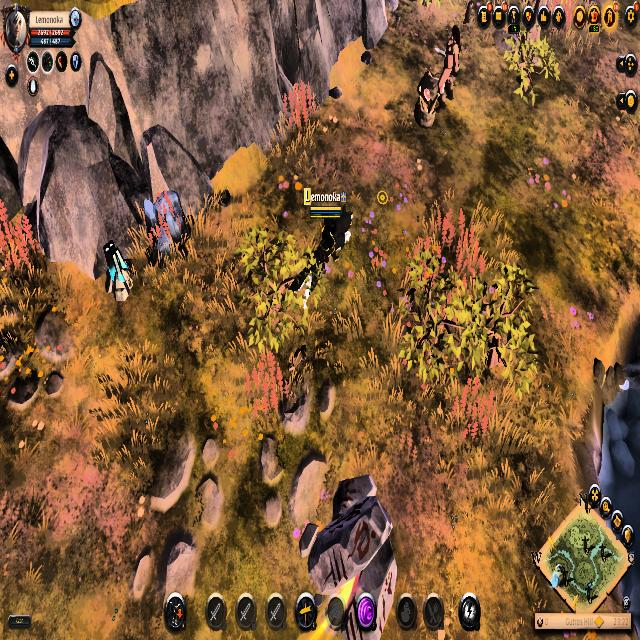ore tier 4: (101, 234, 138, 299)
